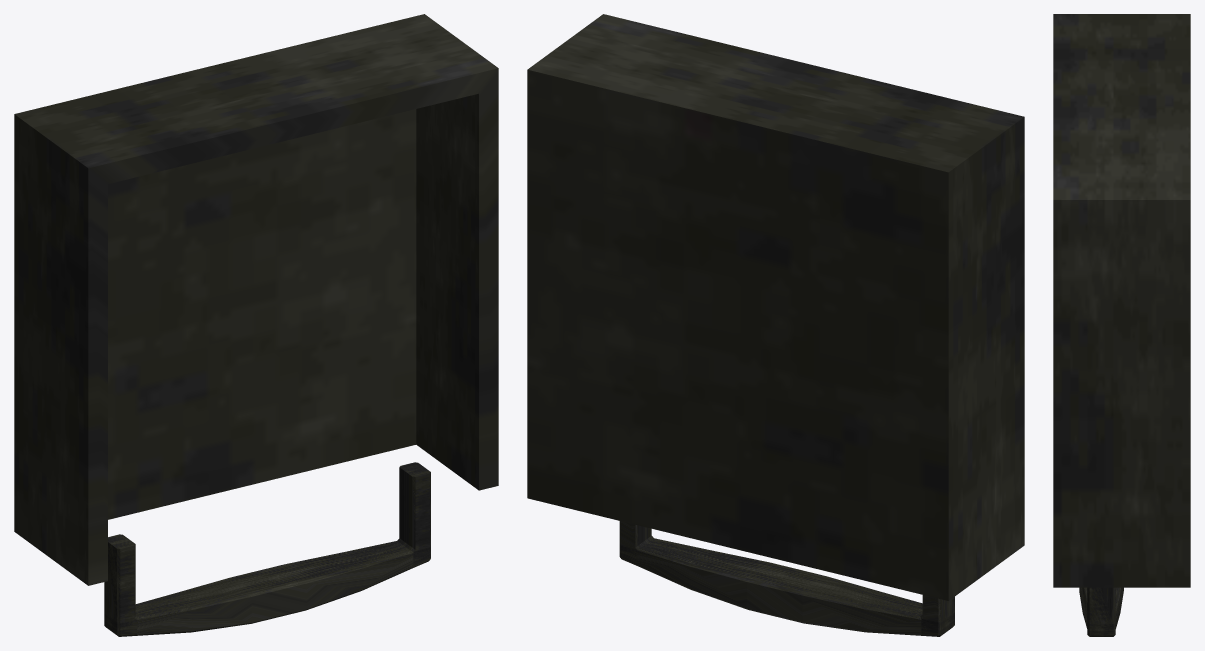
3 renders of one model, left to right at view 1: azimuth 30°, elevation 25°; view 2: azimuth 150°, elevation 25°; view 3: azimuth 270°, elevation 25°, orthographic. The views are drawn at different scales.
Parts seen in each view (by area): view 1: Metal___Stainless_steel.001; view 2: Metal___Stainless_steel.001; view 3: Metal___Stainless_steel.001.
Boxes of the visible parts, x1,y1,x2,y2 form: Metal___Stainless_steel.001: (14, 14, 498, 636); Metal___Stainless_steel.001: (527, 14, 1024, 636); Metal___Stainless_steel.001: (1053, 14, 1190, 636).
Size of the model in its own units: 0.3957 by 0.47 by 0.1238.
Materials: 1 (1 with a texture image).
